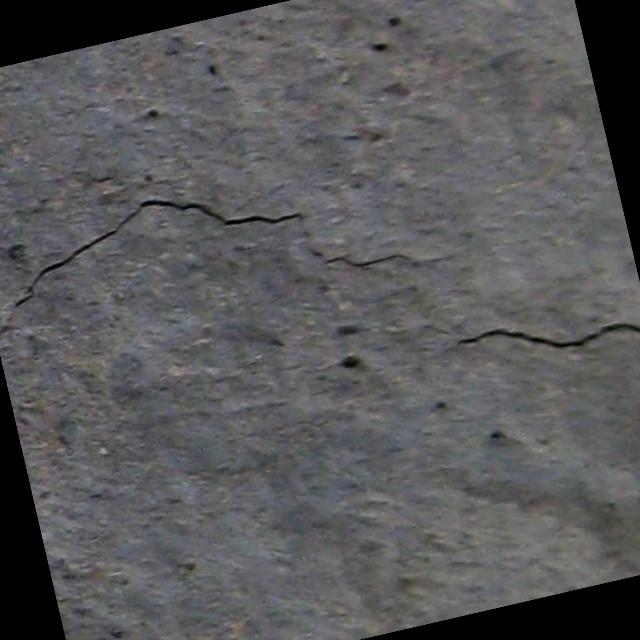crack: (0, 132, 452, 362), (449, 289, 640, 383)
